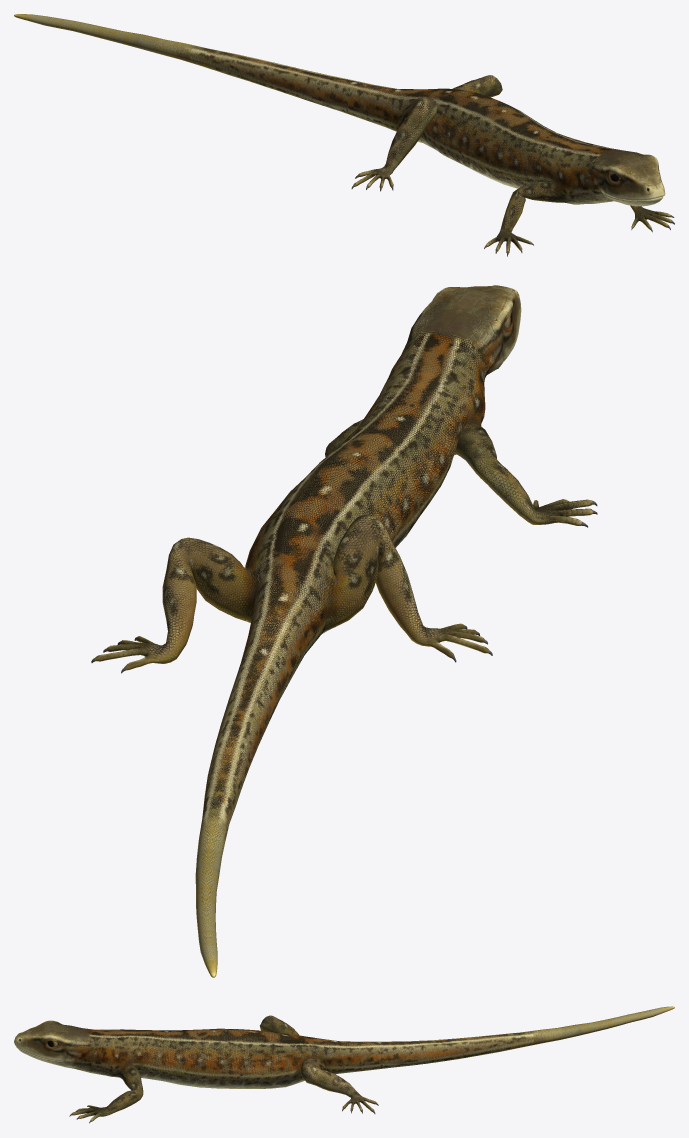
The model's file is Running380.obj.
3 renders of one model, top to bottom at view 1: azimuth 30°, elevation 25°; view 2: azimuth 150°, elevation 25°; view 3: azimuth 270°, elevation 25°, orthographic. The views are drawn at different scales.
Visible parts, largest first — view 1: Lizard; view 2: Lizard; view 3: Lizard.
Part boxes in pixels (<box>): Lizard: <box>14,14,674,256</box>; Lizard: <box>91,285,597,977</box>; Lizard: <box>14,1006,674,1123</box>.
Bounding box in the file's own units: 40.02 × 12.09 × 98.79.
